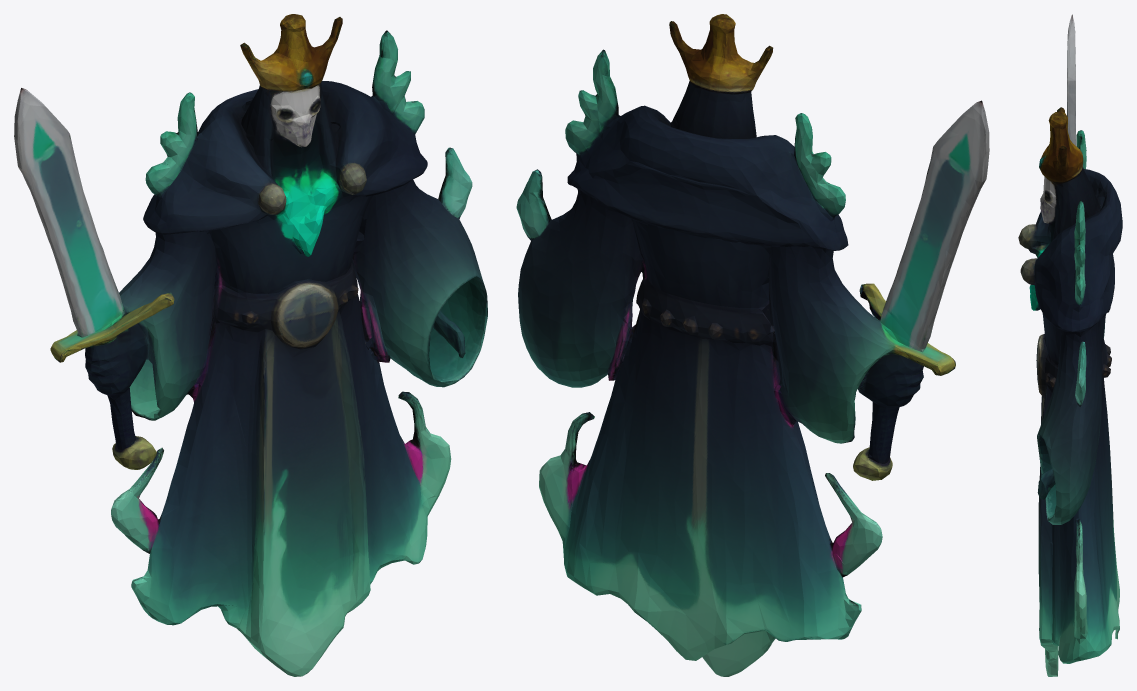
The model's file is wraithking.glb.
3 renders of one model, left to right at view 1: azimuth 30°, elevation 25°; view 2: azimuth 150°, elevation 25°; view 3: azimuth 270°, elevation 25°, orthographic. The views are drawn at different scales.
Visible parts, largest first — view 1: geometry_0; view 2: geometry_0; view 3: geometry_0.
Boxes of the visible parts, left/top/right/bottom form: geometry_0: left=14, top=14, right=487, bottom=676; geometry_0: left=516, top=14, right=989, bottom=676; geometry_0: left=1018, top=14, right=1122, bottom=676.
Bounding box in the file's own units: 0.7411 × 0.9993 × 0.1682.
Materials: 1 (1 with a texture image).
